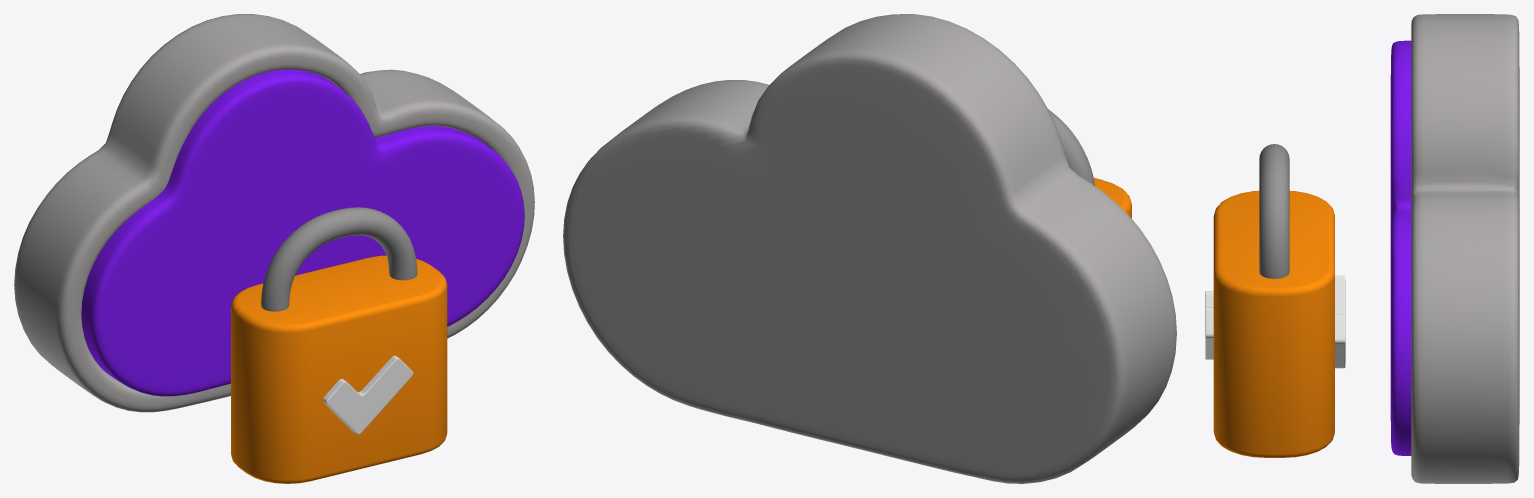
File: cloud-security-animated-3d-icon-382582160666.glb
The picture shows the model from 3 angles, left to right: view 1: azimuth 30°, elevation 25°; view 2: azimuth 150°, elevation 25°; view 3: azimuth 270°, elevation 25°; orthographic projection. The views are drawn at different scales.
Visible parts, largest first — view 1: Cloud 2, Cloud 1, Lock Base.003, Lock.009, Checkmark.006; view 2: Cloud 1, Lock.009; view 3: Cloud 1, Lock Base.003, Cloud 2, Lock.009, Checkmark.012, Checkmark.006.
Boxes of the visible parts, x1=… form: Cloud 2: x1=81, y1=69, x2=524, y2=396; Cloud 1: x1=14, y1=14, x2=534, y2=412; Lock Base.003: x1=231, y1=255, x2=447, y2=483; Lock.009: x1=261, y1=207, x2=417, y2=311; Checkmark.006: x1=322, y1=355, x2=413, y2=434; Cloud 1: x1=563, y1=14, x2=1176, y2=483; Lock.009: x1=1048, y1=109, x2=1094, y2=185; Cloud 1: x1=1411, y1=14, x2=1519, y2=483; Lock Base.003: x1=1213, y1=190, x2=1334, y2=457; Cloud 2: x1=1390, y1=40, x2=1411, y2=455; Lock.009: x1=1259, y1=144, x2=1289, y2=278; Checkmark.012: x1=1335, y1=275, x2=1345, y2=368; Checkmark.006: x1=1205, y1=291, x2=1213, y2=359.
Bounding box in the file's own units: 1.96 × 1.39 × 1.05.
